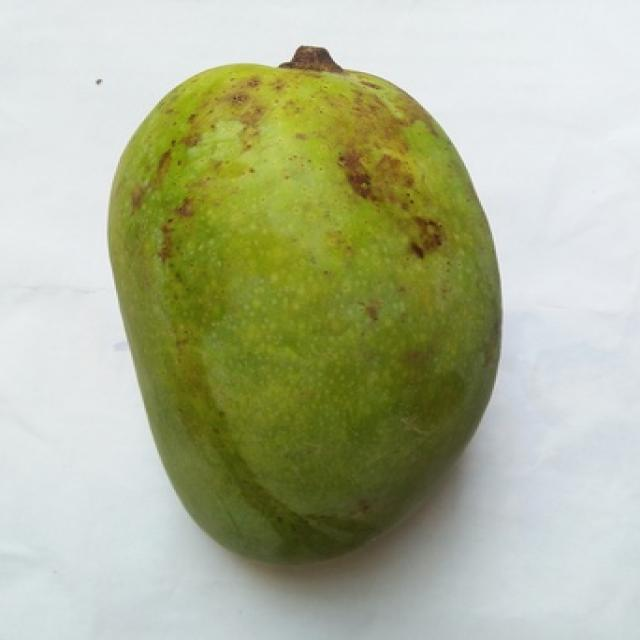Mango: (109, 48, 500, 559)
